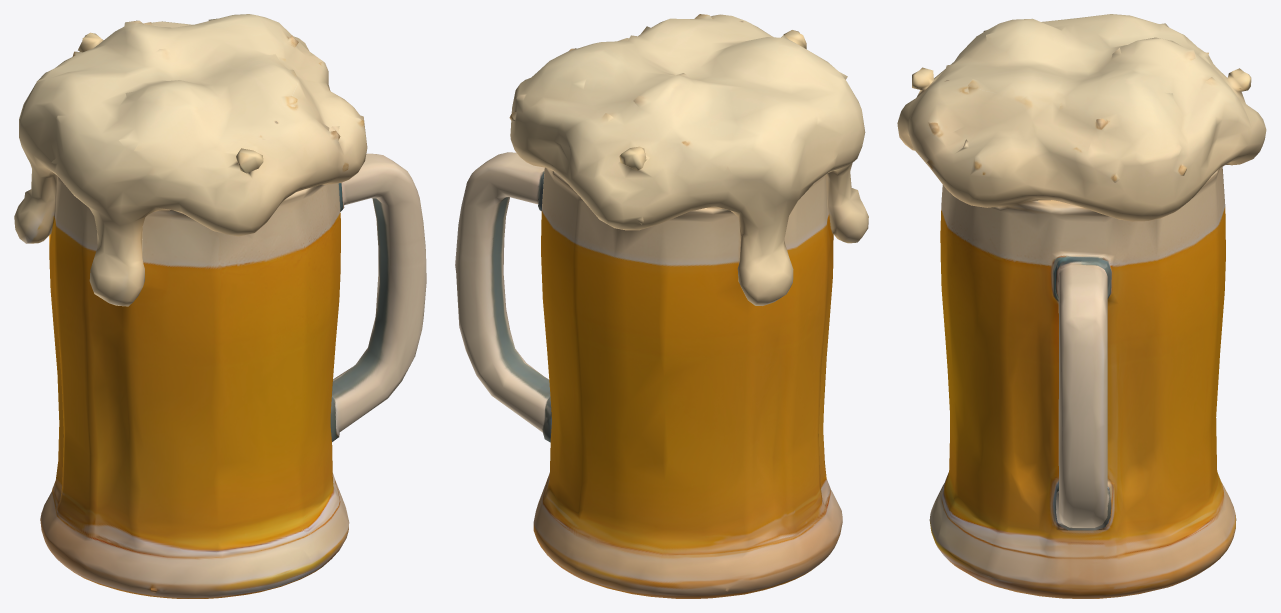
File: bierkrug.glb
3 views of the same model, side by side, from view 1: azimuth 30°, elevation 25°; view 2: azimuth 150°, elevation 25°; view 3: azimuth 270°, elevation 25° (orthographic).
Visible parts, largest first — view 1: tripo_node_b4151a1b-eaac-4fca-b692-4008813e0c7e; view 2: tripo_node_b4151a1b-eaac-4fca-b692-4008813e0c7e; view 3: tripo_node_b4151a1b-eaac-4fca-b692-4008813e0c7e.
Part boxes in pixels (x1=…): tripo_node_b4151a1b-eaac-4fca-b692-4008813e0c7e: x1=14, y1=14, x2=426, y2=598; tripo_node_b4151a1b-eaac-4fca-b692-4008813e0c7e: x1=455, y1=14, x2=868, y2=598; tripo_node_b4151a1b-eaac-4fca-b692-4008813e0c7e: x1=897, y1=14, x2=1266, y2=598.
Size of the model in its own units: 0.778 by 0.9797 by 0.6667.
1 material, 1 textured.
